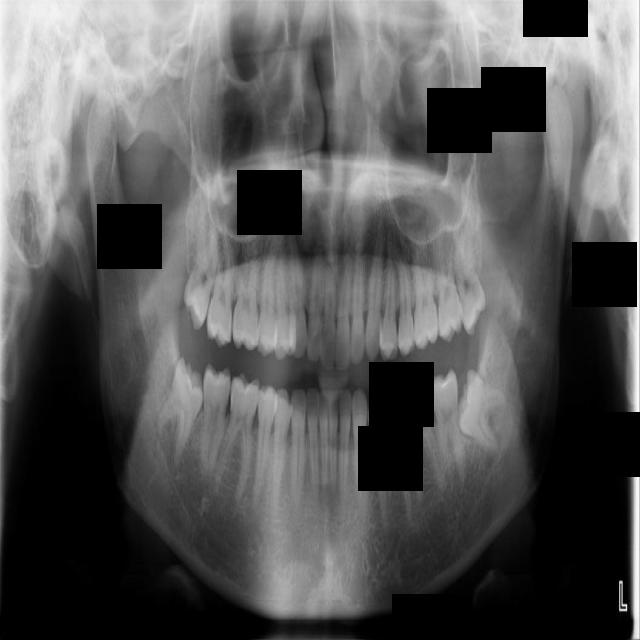3M ESPE Implant: (177, 218, 227, 331)
73: (619, 616, 627, 625)
BioHorizons Implant: (432, 225, 465, 343)
BioLife Implant: (451, 225, 490, 337)
Biomet 3i Implant: (450, 367, 510, 456)
Blue Sky Bio Implant: (428, 368, 467, 490)
Caries: (205, 225, 238, 349)
Implant: (197, 362, 232, 482)
Keystone Dental Implant: (142, 356, 215, 471)
